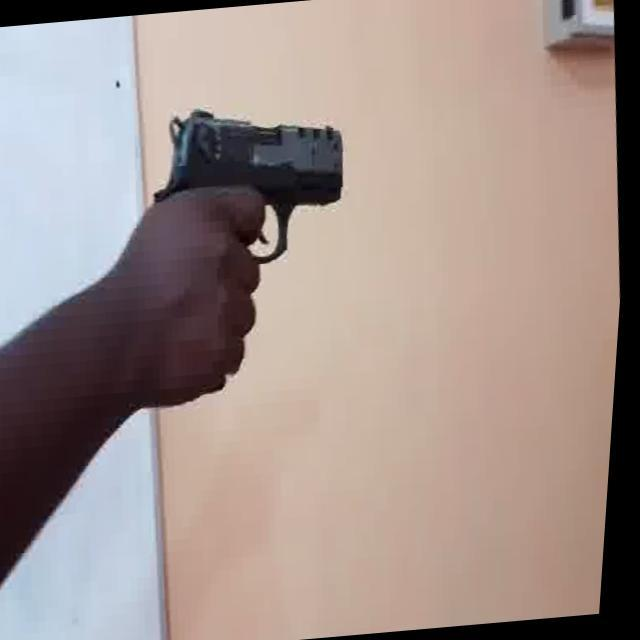weapon: (145, 93, 358, 274)
